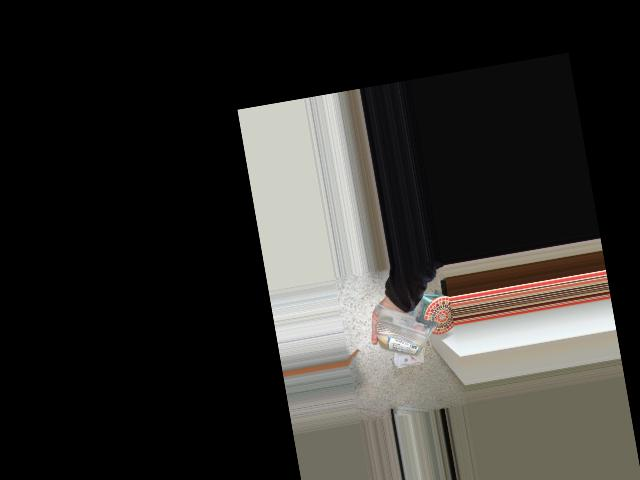cheese: (385, 307, 423, 375)
